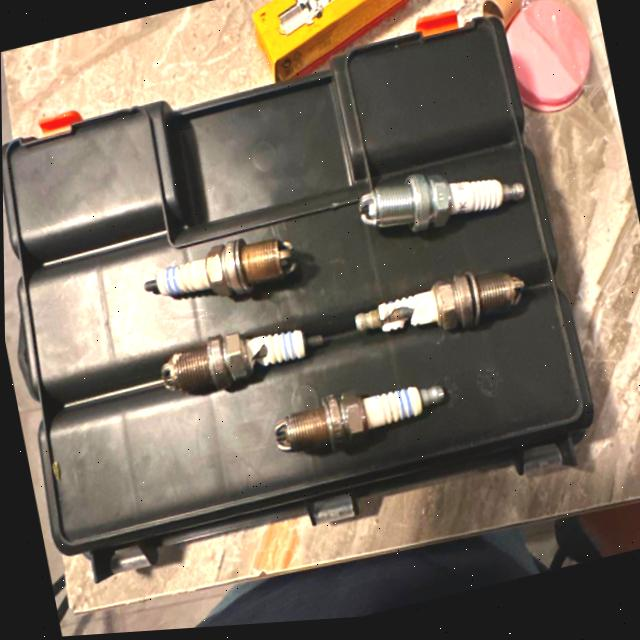damaged_spark-plug: (349, 271, 530, 354), (160, 320, 331, 403)
spark-plug: (344, 153, 531, 255), (264, 380, 446, 461), (141, 233, 296, 312)
